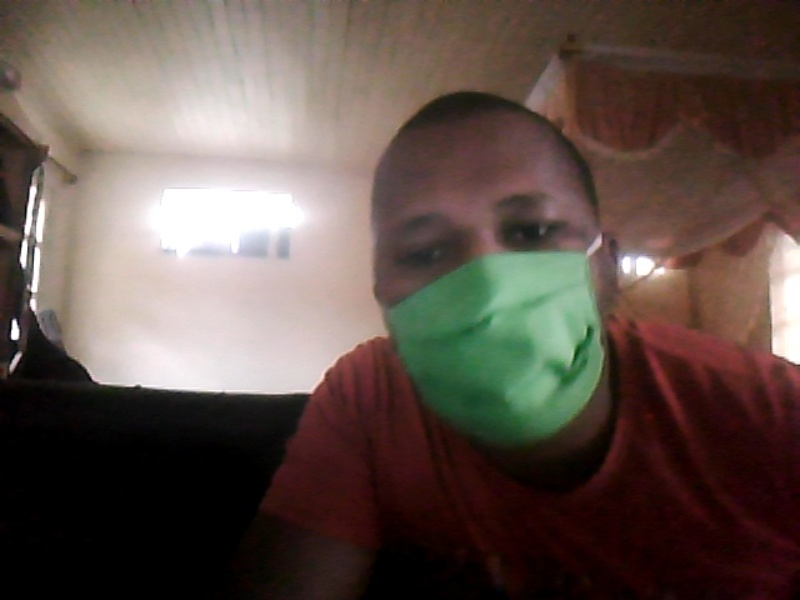ManaoArotava: (353, 101, 650, 458)
